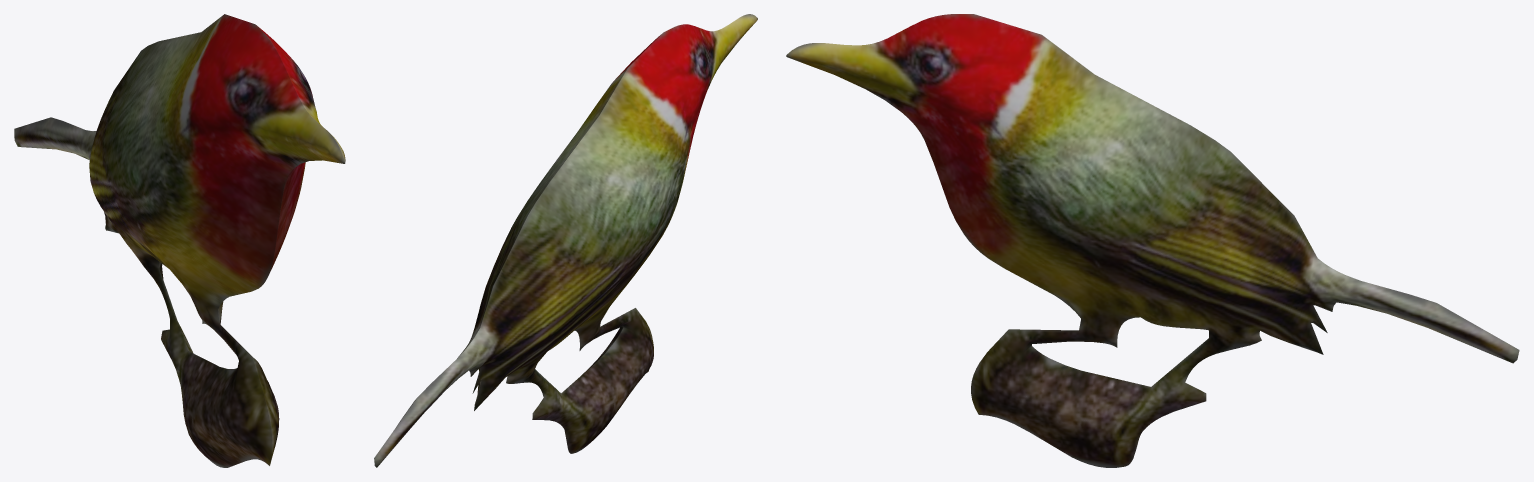
File: cabezon.a.tete.rouge.mast.1g-removebg-preview.gltf
The picture shows the model from 3 angles, left to right: view 1: azimuth 30°, elevation 25°; view 2: azimuth 150°, elevation 25°; view 3: azimuth 270°, elevation 25°; orthographic projection. The views are drawn at different scales.
Parts seen in each view (by area): view 1: node1; view 2: node1; view 3: node1.
Part boxes in pixels (left/top/right/bottom): node1: left=14, top=14, right=345, bottom=467; node1: left=374, top=14, right=757, bottom=467; node1: left=786, top=14, right=1519, bottom=467.
Bounding box in the file's own units: 0.2474 × 0.7892 × 1.19.
1 material, 1 textured.
